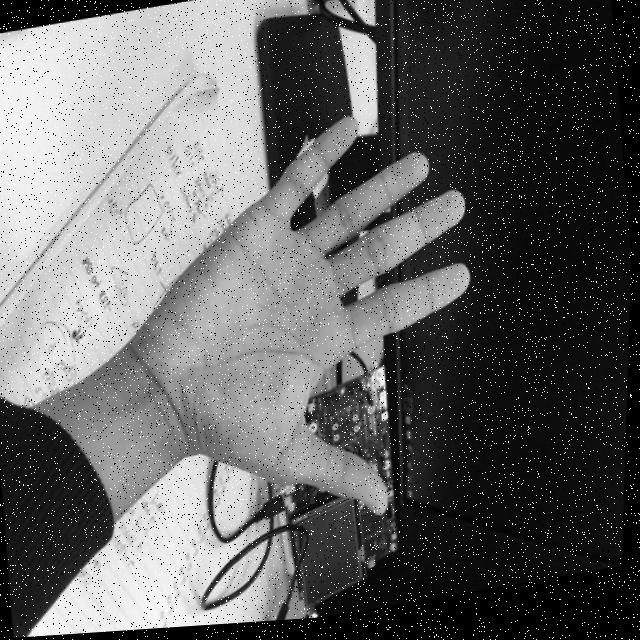hand: (118, 95, 500, 554)
